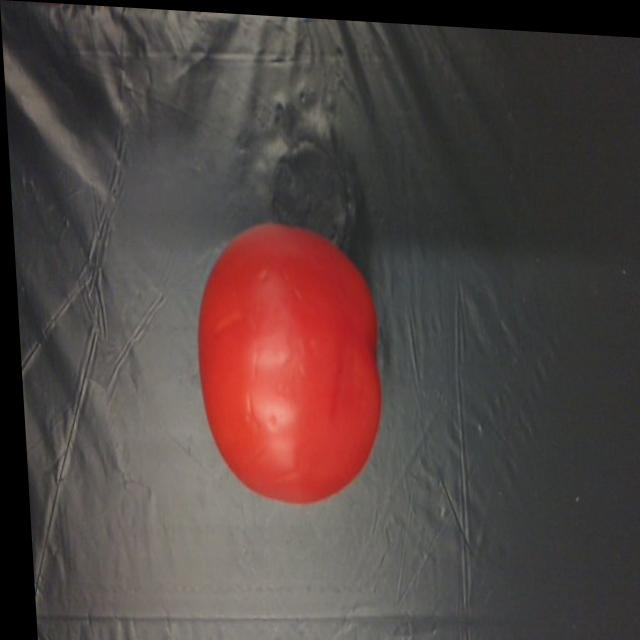kirmizi: (181, 219, 391, 509)
